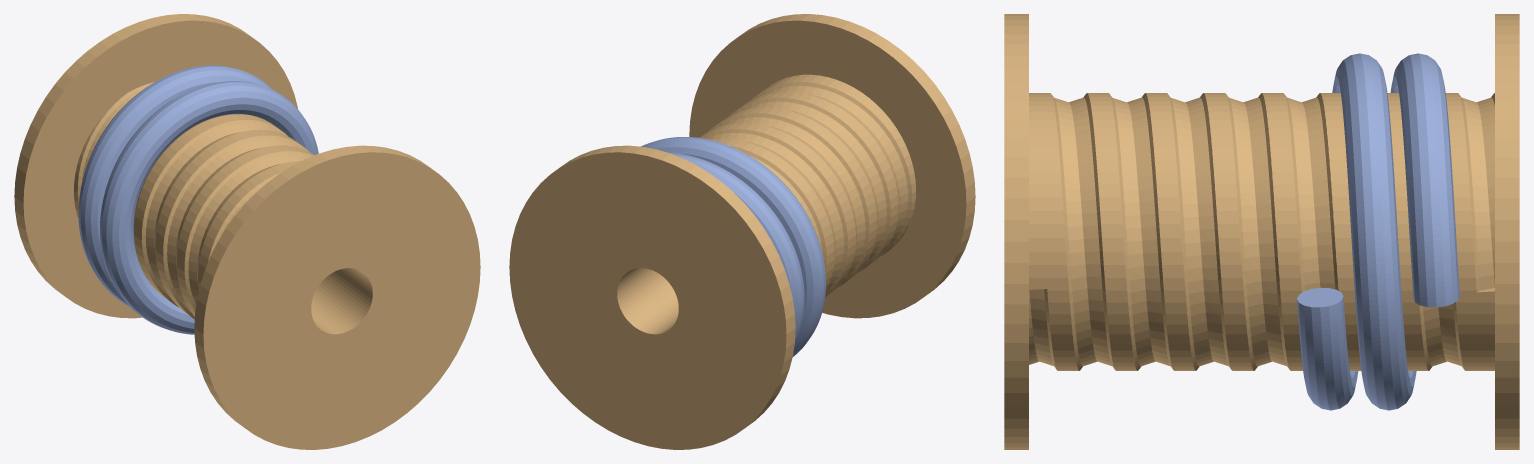
File: winch_drum_demo.glb
The picture shows the model from 3 angles, left to right: view 1: azimuth 30°, elevation 25°; view 2: azimuth 150°, elevation 25°; view 3: azimuth 270°, elevation 25°; orthographic projection. The views are drawn at different scales.
Parts seen in each view (by area): view 1: grooved_drum, cable; view 2: grooved_drum, cable; view 3: grooved_drum, cable.
Part boxes in pixels (bbox=[...]): grooved_drum: bbox=[14, 14, 480, 449]; cable: bbox=[78, 65, 318, 334]; grooved_drum: bbox=[509, 14, 975, 449]; cable: bbox=[641, 137, 825, 356]; grooved_drum: bbox=[1004, 14, 1519, 449]; cable: bbox=[1297, 53, 1459, 410].
Size of the model in its own units: 28.1 by 28.1 by 33.2.
